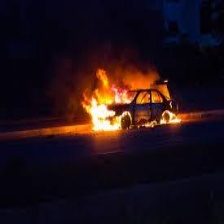fire: (83, 74, 179, 130)
smoke: (53, 15, 139, 70)
